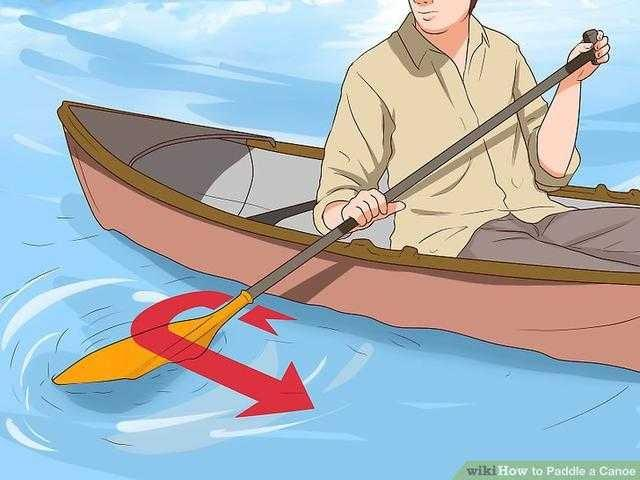kayak: (46, 53, 639, 454)
